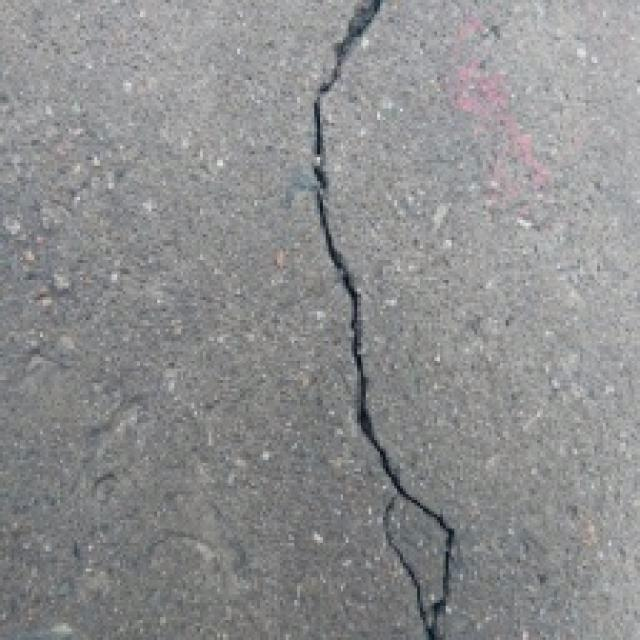crack: (304, 0, 482, 640)
